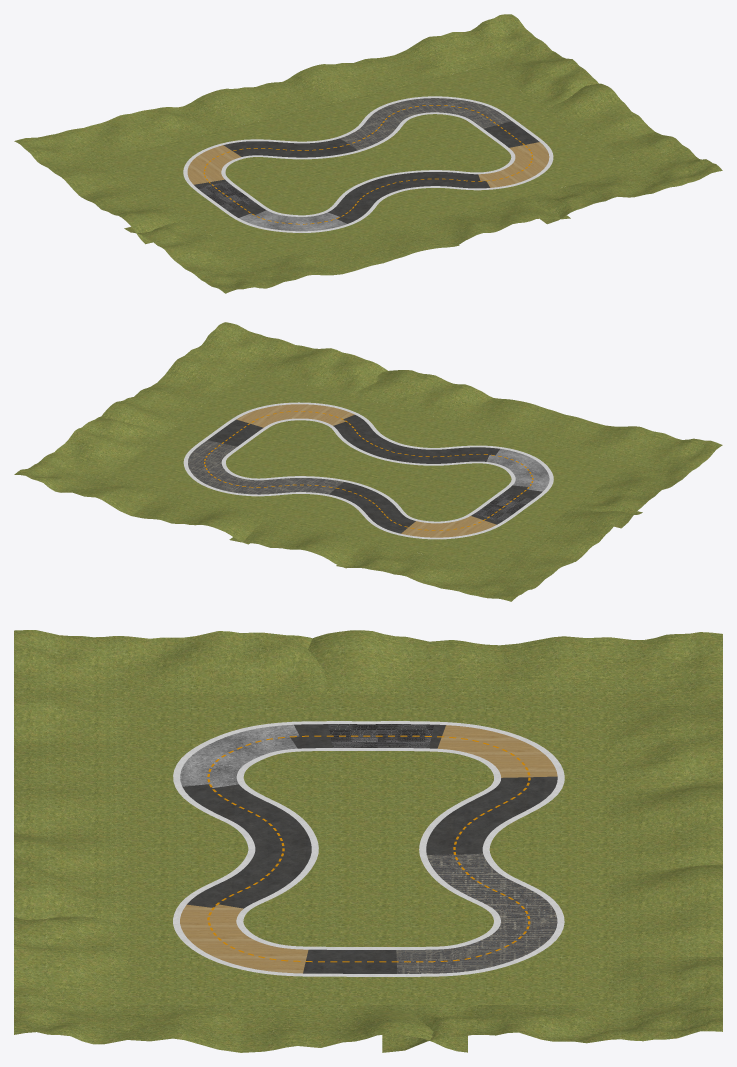
Rendered from bowtie_eval_02.dae.
3 views of the same model, one above another, from view 1: azimuth 30°, elevation 25°; view 2: azimuth 150°, elevation 25°; view 3: azimuth 270°, elevation 25° (orthographic). The views are drawn at different scales.
Parts seen in each view (by area): view 1: bg_terrain, field, road, outerLine, innerLine, centerLine; view 2: bg_terrain, field, road, outerLine, innerLine, centerLine; view 3: bg_terrain, field, road, outerLine, innerLine, centerLine.
Boxes of the visible parts, <box> form: bg_terrain: <box>14,14,722,293</box>; field: <box>107,66,629,263</box>; road: <box>187,98,549,231</box>; outerLine: <box>183,96,553,232</box>; innerLine: <box>221,112,515,216</box>; centerLine: <box>203,105,532,224</box>; bg_terrain: <box>14,322,722,601</box>; field: <box>107,372,629,569</box>; road: <box>188,404,549,537</box>; outerLine: <box>183,402,553,539</box>; innerLine: <box>221,418,515,523</box>; centerLine: <box>204,411,533,530</box>; bg_terrain: <box>14,630,722,1052</box>; field: <box>127,693,609,1004</box>; road: <box>180,724,557,973</box>; outerLine: <box>173,721,564,976</box>; innerLine: <box>236,748,500,949</box>; centerLine: <box>207,735,530,962</box>.
Size of the model in its own units: 10.36 by 7.62 by 0.2962.
10 materials, 10 textured.
